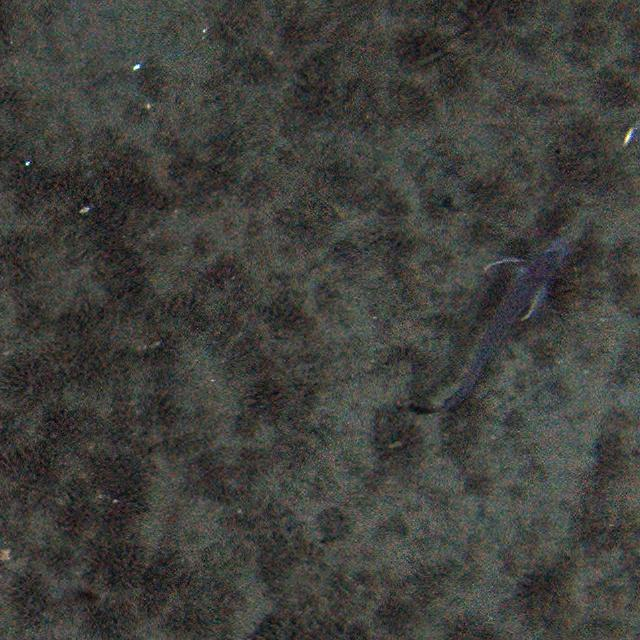roundfish: (408, 242, 572, 419)
